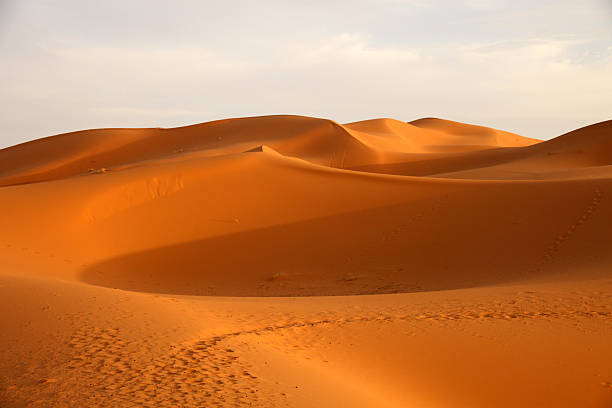animal_footprint: (19, 325, 259, 407), (72, 329, 257, 406), (533, 188, 602, 272)
